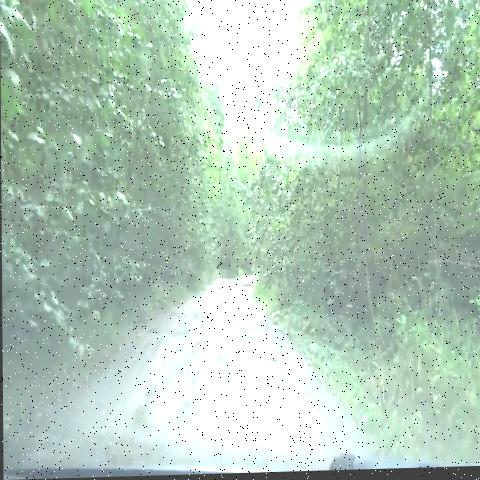pothole: (221, 331, 261, 356), (135, 373, 163, 408), (257, 347, 288, 374), (227, 312, 259, 335), (237, 274, 255, 299), (212, 281, 227, 301)
